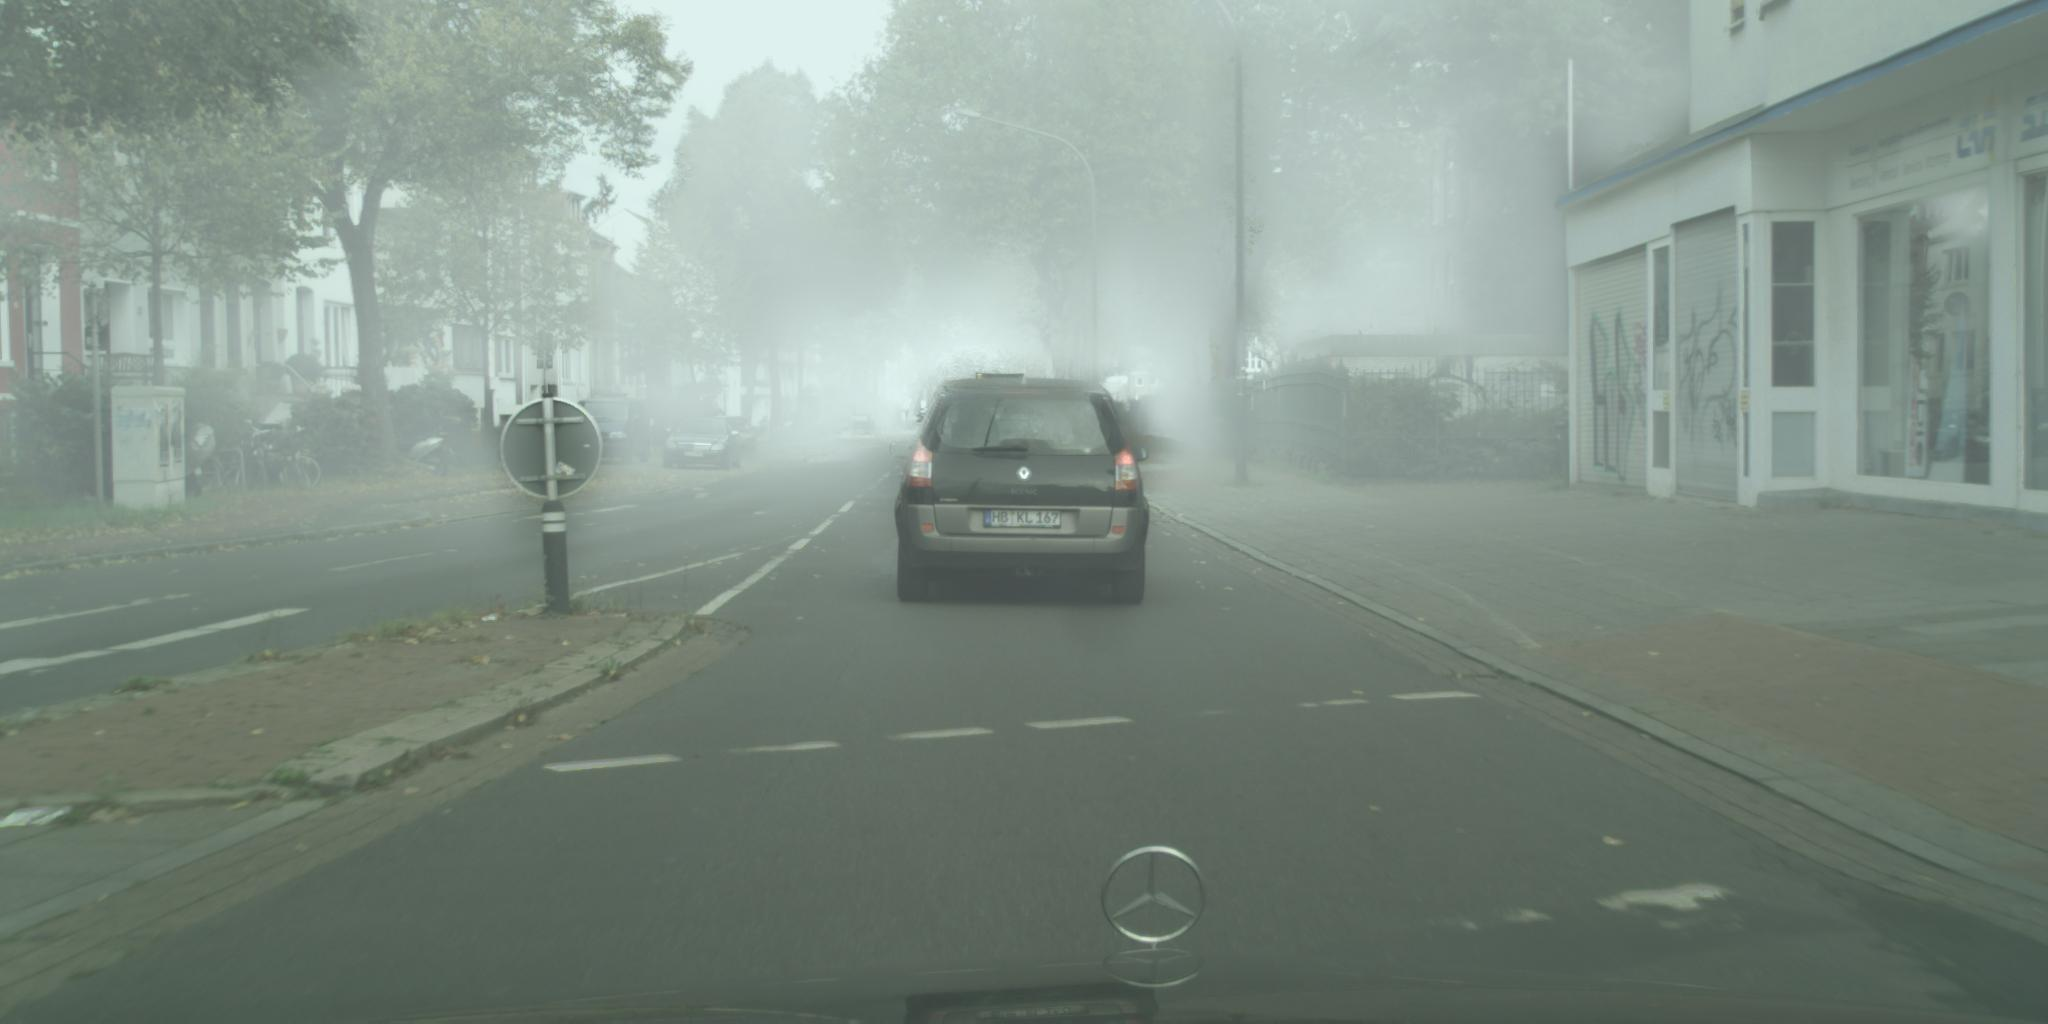car: (888, 377, 1151, 605), (576, 398, 650, 465), (664, 418, 743, 472), (714, 415, 759, 455), (825, 414, 856, 439), (849, 414, 876, 438)
motorcycle: (398, 417, 466, 478), (175, 424, 216, 498), (758, 415, 793, 438)
